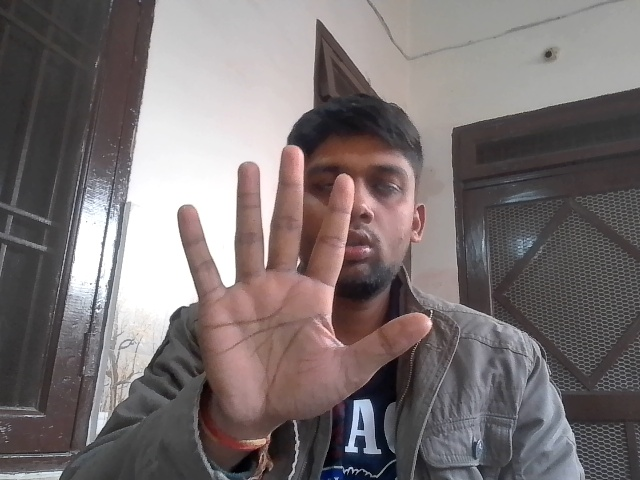Hello: (172, 139, 437, 421)
